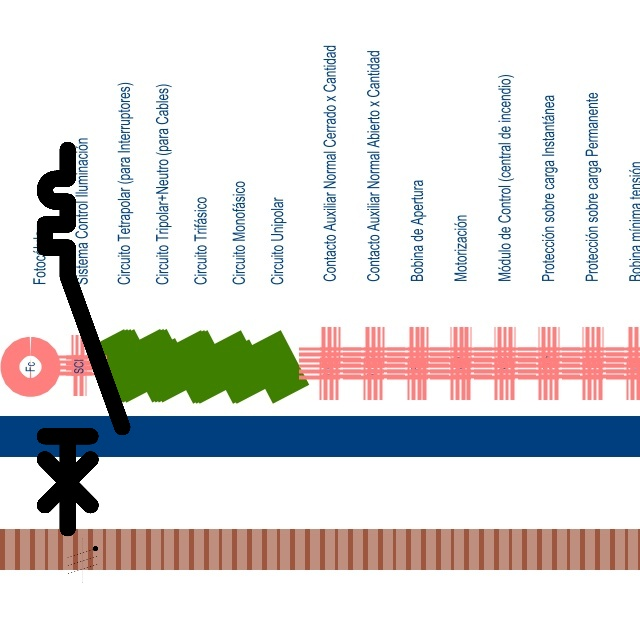interruptor_termomagnetico: (35, 140, 132, 538)
